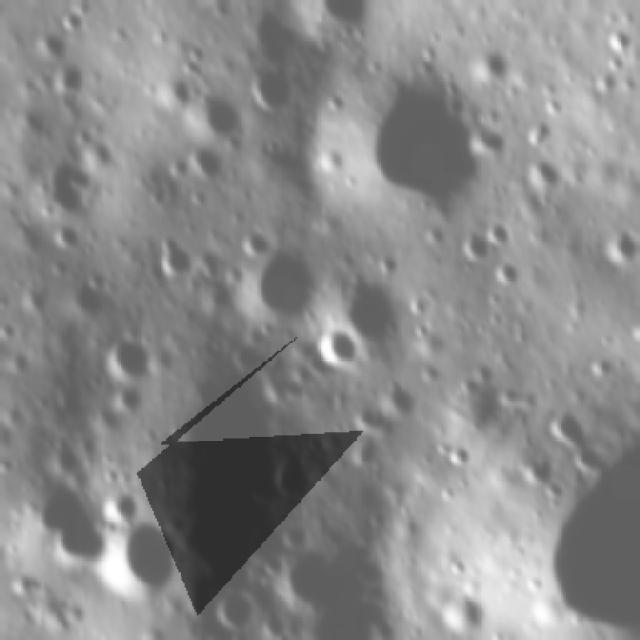crater: (344, 72, 514, 220), (532, 411, 640, 635), (278, 544, 402, 638), (92, 515, 188, 603), (31, 469, 108, 576), (338, 263, 418, 349), (244, 248, 321, 324), (240, 0, 315, 62), (32, 152, 98, 217), (247, 59, 315, 119), (192, 91, 258, 151), (108, 326, 163, 382), (211, 578, 264, 630), (149, 229, 200, 280), (437, 588, 489, 638), (314, 0, 381, 34), (230, 217, 279, 263), (158, 65, 210, 108), (317, 328, 366, 370), (450, 224, 498, 264), (521, 154, 570, 192), (377, 375, 421, 417), (598, 222, 640, 264), (104, 477, 144, 521), (41, 217, 90, 251), (32, 19, 71, 59), (54, 59, 91, 95), (488, 256, 526, 290), (112, 378, 150, 412), (197, 0, 252, 14), (605, 29, 637, 53), (638, 271, 640, 300)
